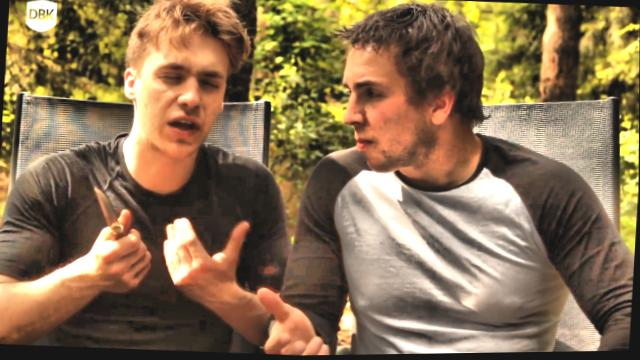knife: (78, 177, 159, 276)
